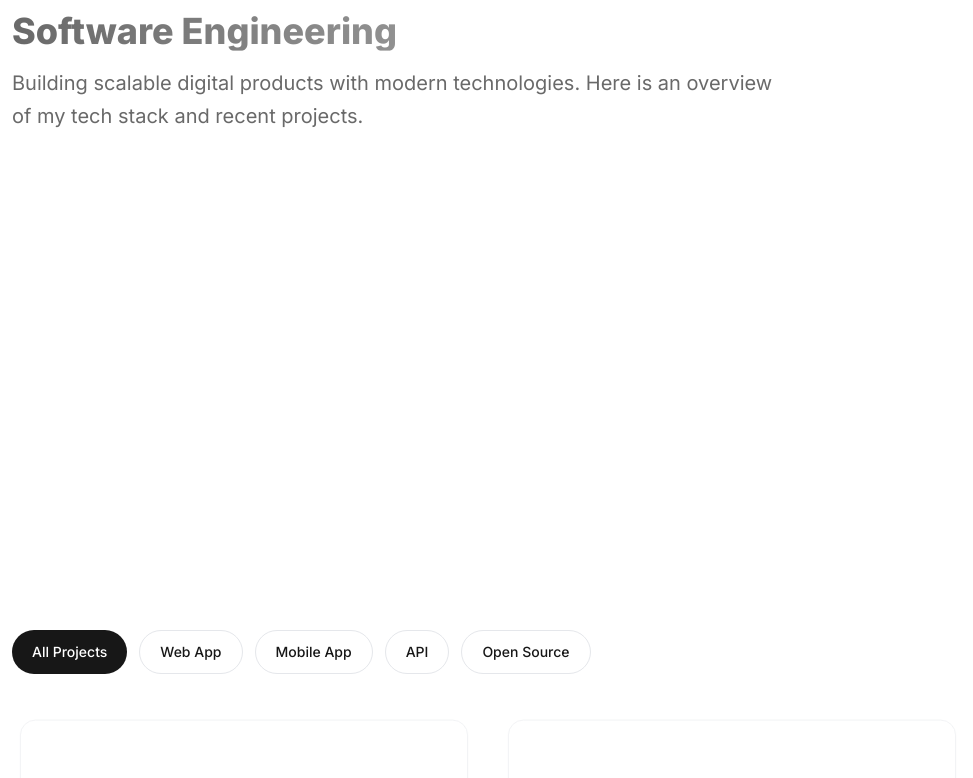
Test: SoftwareClient › shows EmptyState when no projects match
What coordinates should you click on to do the following:
click the button "Open Source"
I would click on:
 (526, 652)
Its box is [461,630,590,674].
(page scrolled)
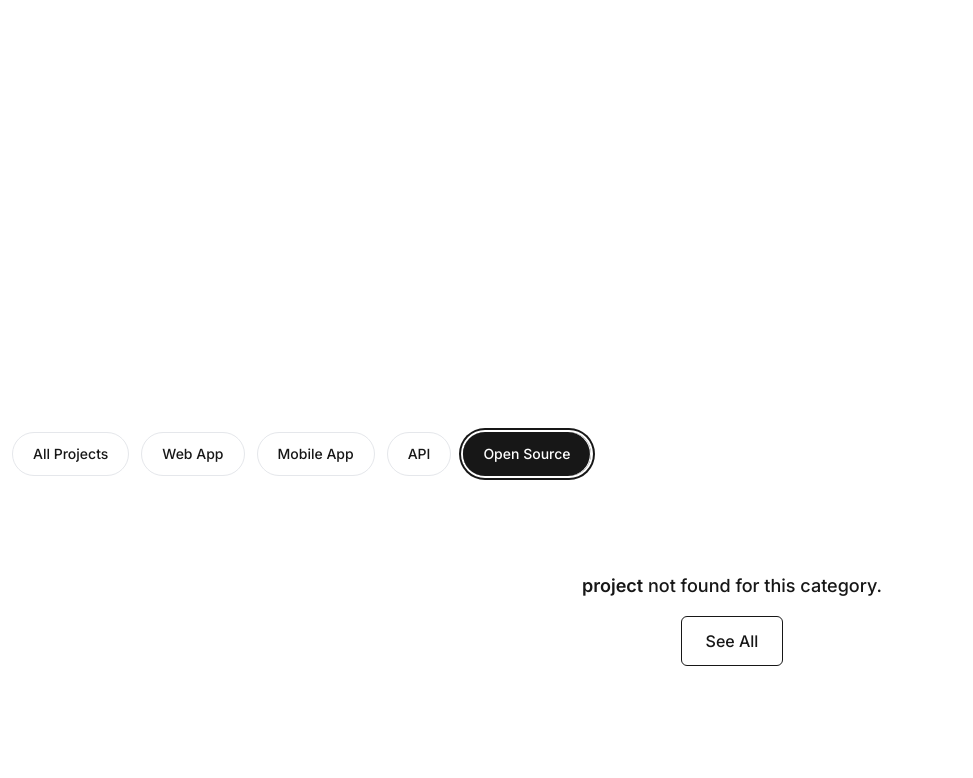
Result: the text "project not found for this category." is shown at [582,572,882,600]
